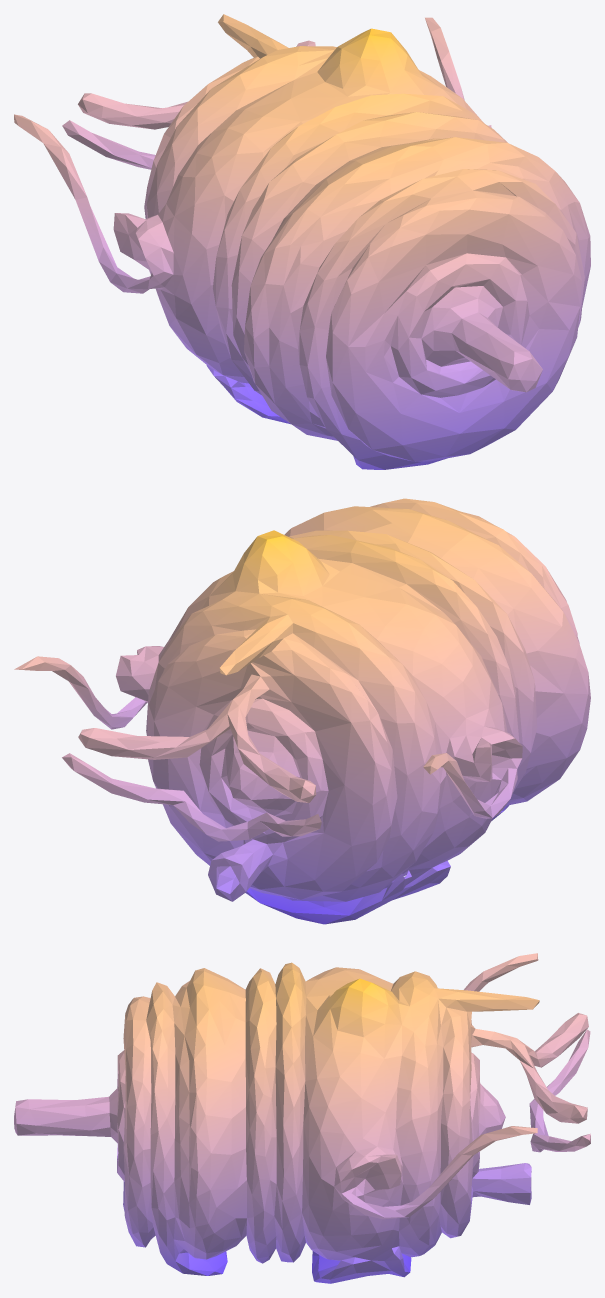
File: 103_cyb_laser_gradient_fish_scales_2762_2026_10_03_db23e7.glb
3 renders of one model, top to bottom at view 1: azimuth 30°, elevation 25°; view 2: azimuth 150°, elevation 25°; view 3: azimuth 270°, elevation 25°, orthographic. The views are drawn at different scales.
Parts seen in each view (by area): view 1: geometry_0; view 2: geometry_0; view 3: geometry_0.
Part boxes in pixels (<box>): geometry_0: <box>14,14,590,469</box>; geometry_0: <box>14,498,590,924</box>; geometry_0: <box>14,953,590,1283</box>.
Bounding box in the file's own units: 0.7187 × 0.5797 × 0.9958.
